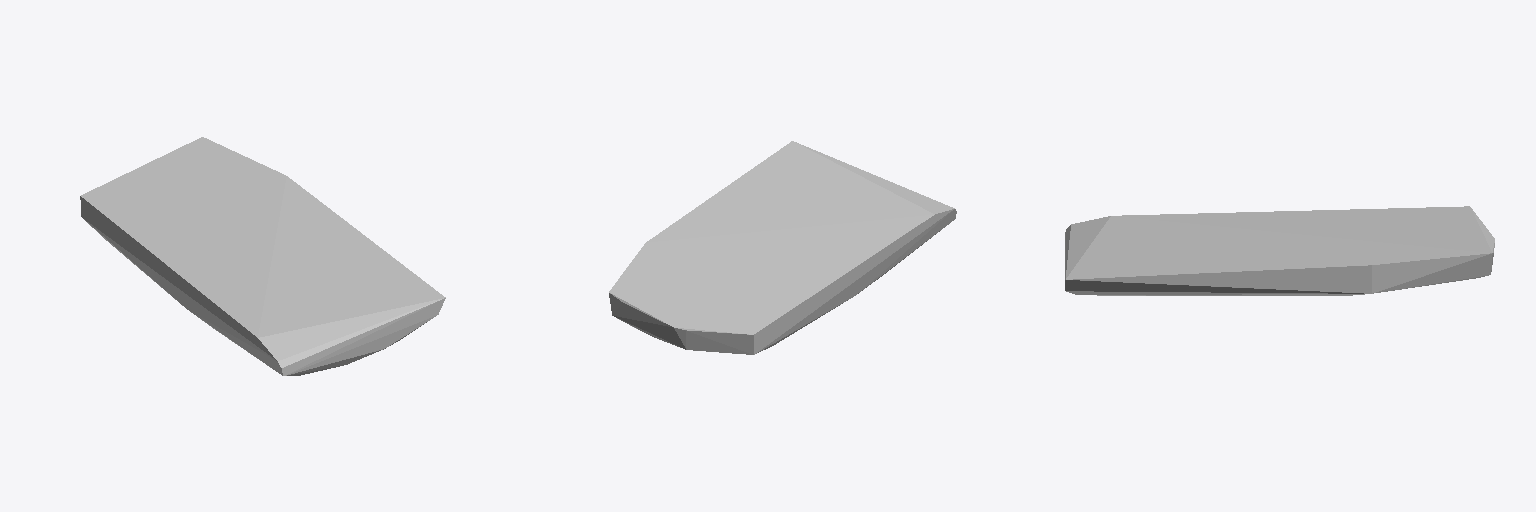
Rendered from mug_cup_collision_11.obj.
The picture shows the model from 3 angles: view 1: azimuth 30°, elevation 25°; view 2: azimuth 150°, elevation 25°; view 3: azimuth 270°, elevation 25°; orthographic projection.
Bounding box in the file's own units: 0.0346 × 0.0114 × 0.0779.